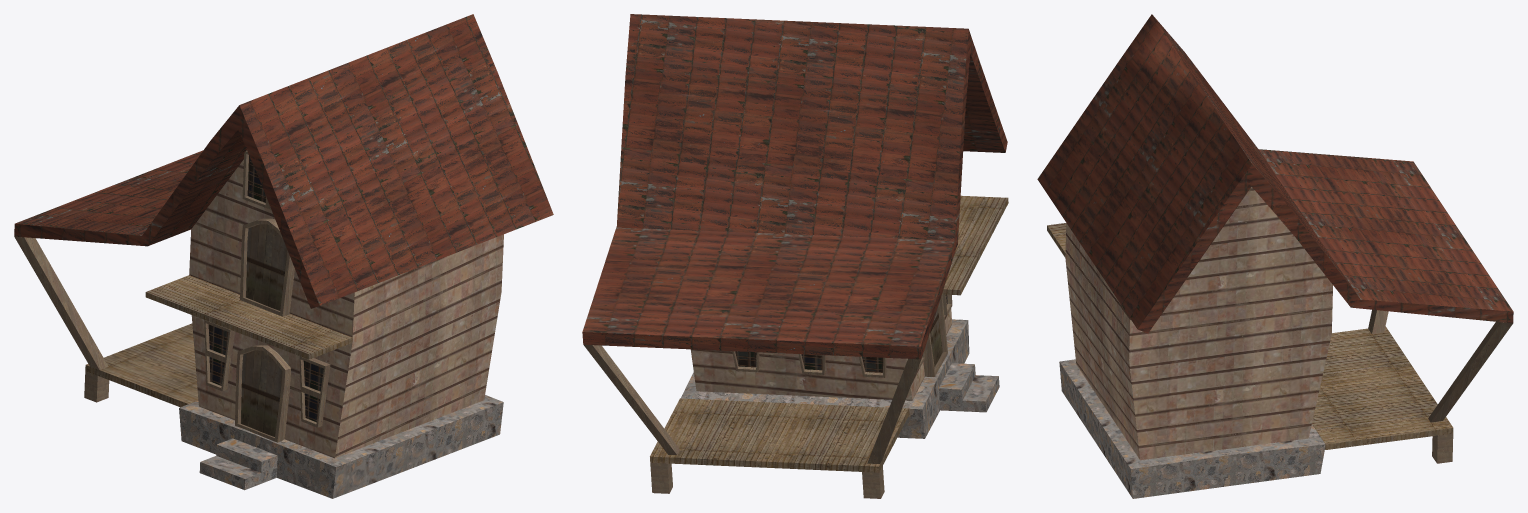
Rendered from OU_AR_House_08_D_.fbx.
The picture shows the model from 3 angles, left to right: view 1: azimuth 30°, elevation 25°; view 2: azimuth 150°, elevation 25°; view 3: azimuth 270°, elevation 25°; orthographic projection. The views are drawn at different scales.
Visible parts, largest first — view 1: OU_AR_House_08_D; view 2: OU_AR_House_08_D; view 3: OU_AR_House_08_D.
Boxes of the visible parts, x1,y1,x2,y2 form: OU_AR_House_08_D: (14, 14, 553, 498); OU_AR_House_08_D: (582, 14, 1008, 498); OU_AR_House_08_D: (1037, 14, 1513, 498).
Size of the model in its own units: 1009 by 947 by 1095.
Materials: 8 (7 with a texture image).
